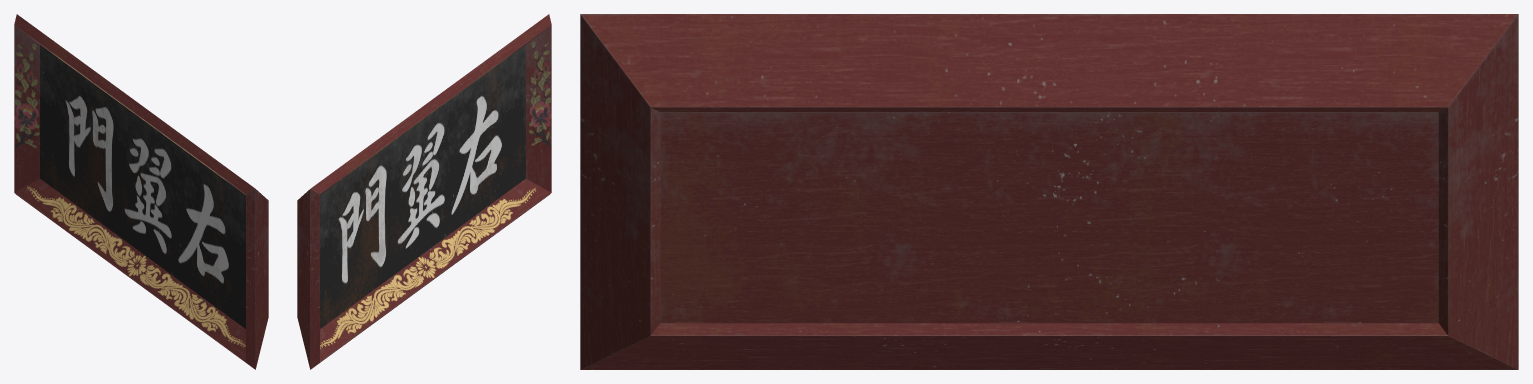
File: SM_WIG_Signboard01e.fbx
3 renders of one model, left to right at view 1: azimuth 30°, elevation 25°; view 2: azimuth 150°, elevation 25°; view 3: azimuth 270°, elevation 25°, orthographic. The views are drawn at different scales.
Visible parts, largest first — view 1: SM_WIG_Signboard01e; view 2: SM_WIG_Signboard01e; view 3: SM_WIG_Signboard01e.
Part boxes in pixels (bbox=[...]): SM_WIG_Signboard01e: bbox=[14, 14, 268, 369]; SM_WIG_Signboard01e: bbox=[297, 14, 551, 369]; SM_WIG_Signboard01e: bbox=[580, 14, 1518, 369].
Size of the model in its own units: 15.27 by 170 by 71.07.
1 material, 1 textured.
